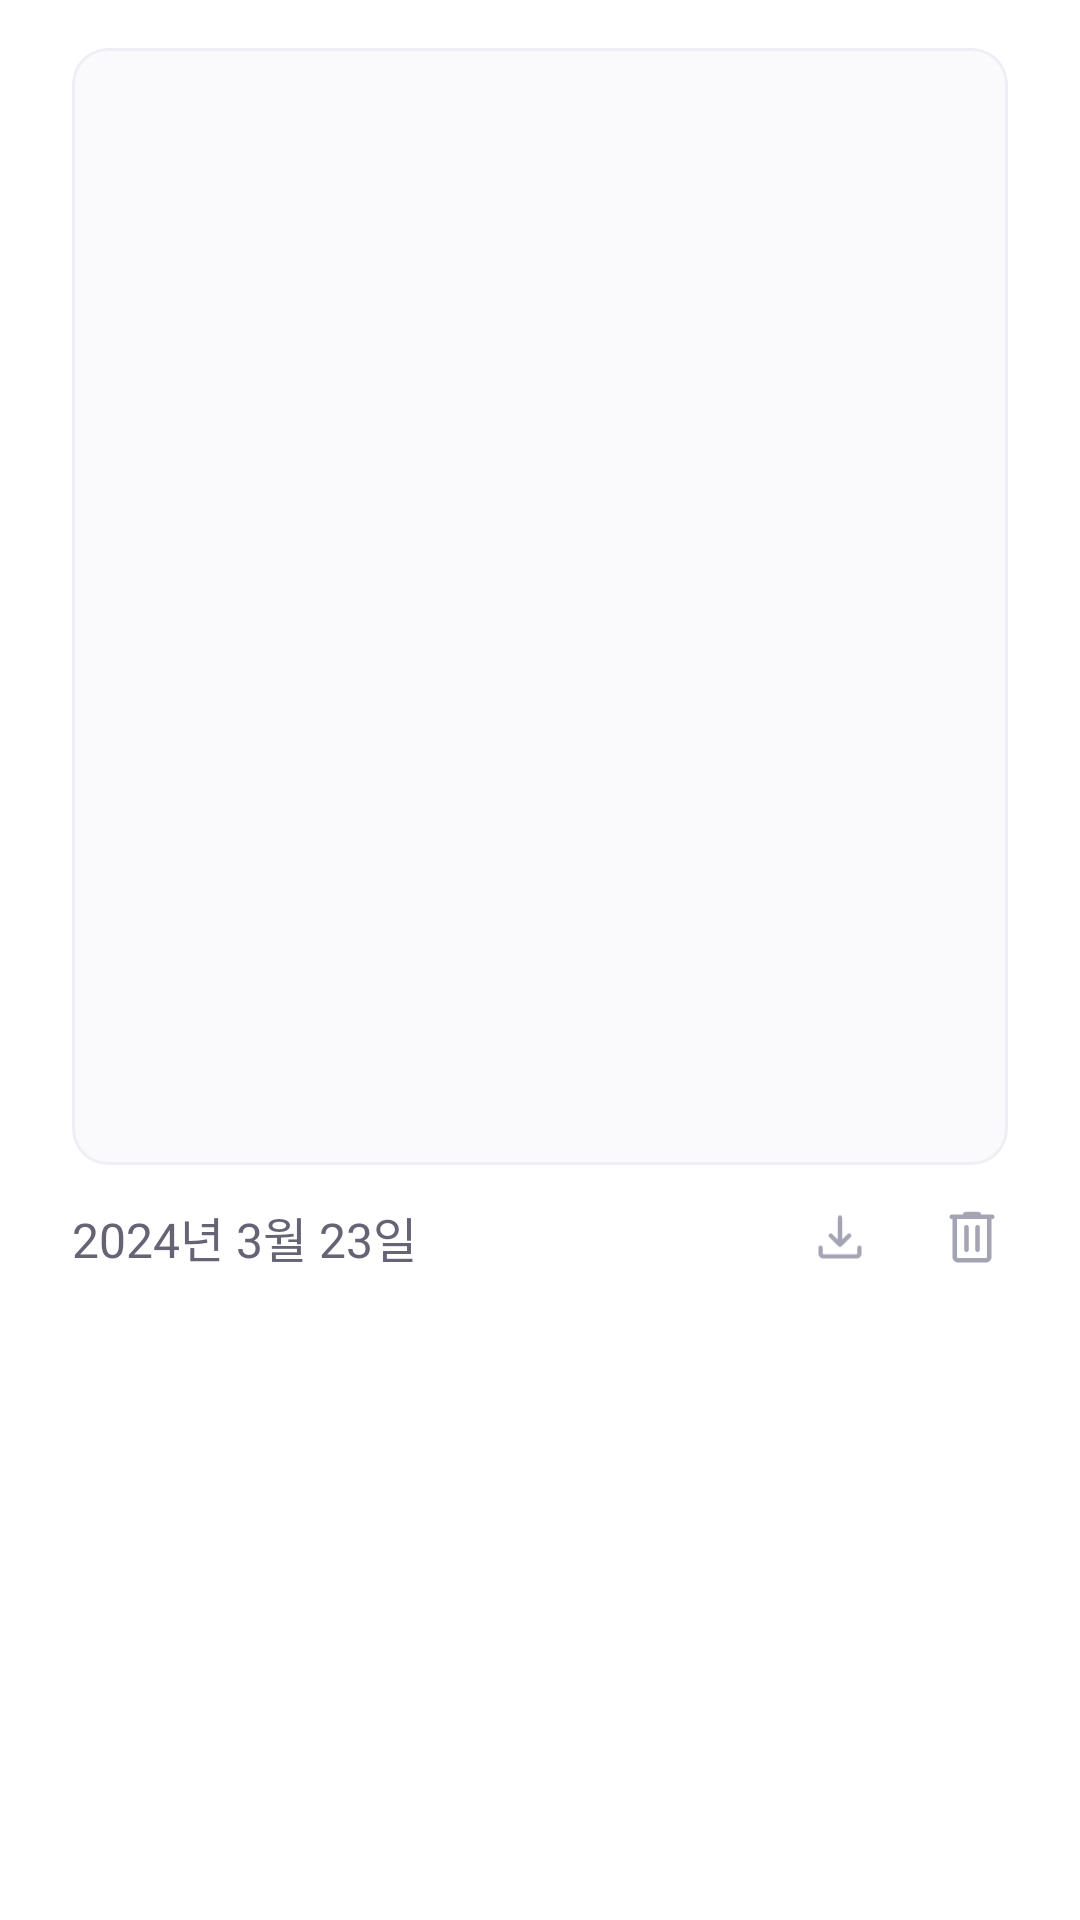

Where to tap for icons on this 1080 x 1920 app screen, as (x,y):
delete: (972,1237)
download: (840,1237)
